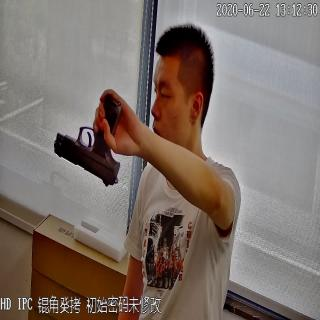gun: (54, 84, 120, 184)
